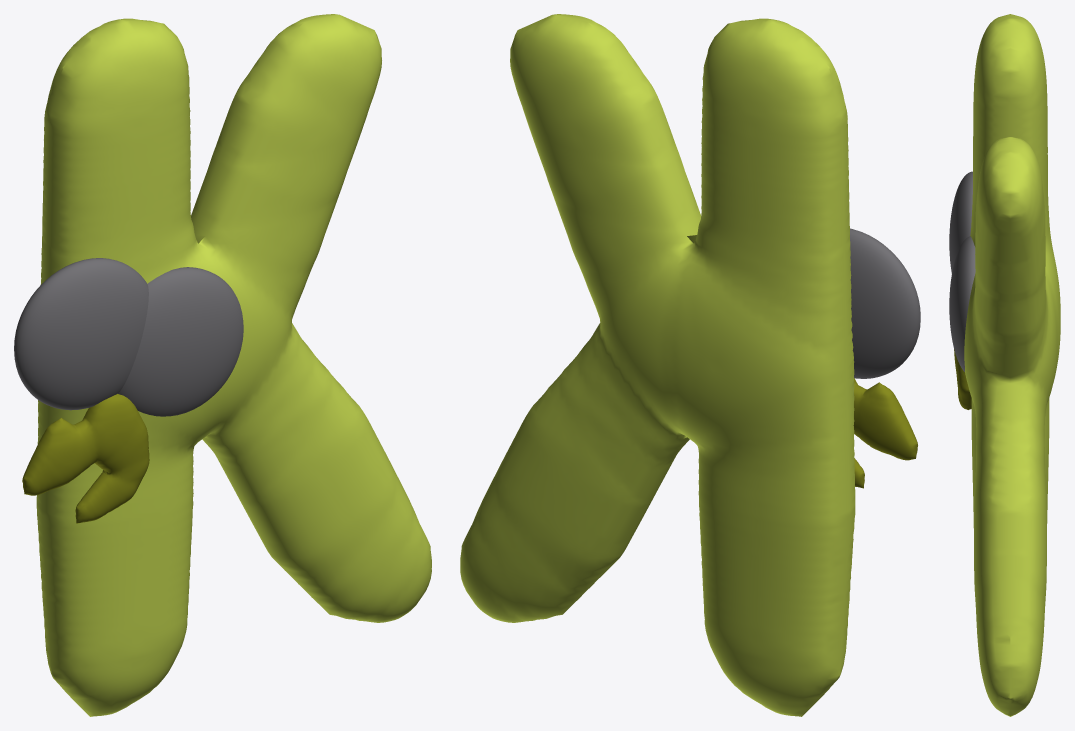
The picture shows the model from 3 angles, left to right: view 1: azimuth 30°, elevation 25°; view 2: azimuth 150°, elevation 25°; view 3: azimuth 270°, elevation 25°; orthographic projection. The views are drawn at different scales.
Parts seen in each view (by area): view 1: root_Material_44_0, root_Material_59_0, root_Material_56_0, root_Material_60_0; view 2: root_Material_44_0, root_Material_59_0, root_Material_60_0; view 3: root_Material_44_0, root_Material_56_0, root_Material_59_0, root_Material_60_0.
Part boxes in pixels (x1,y1,x2,y2): root_Material_44_0: (36,14,431,716); root_Material_59_0: (14,258,148,410); root_Material_56_0: (118,267,243,416); root_Material_60_0: (22,394,149,523); root_Material_44_0: (460,14,855,716); root_Material_59_0: (850,228,920,378); root_Material_60_0: (853,378,917,488); root_Material_44_0: (964,14,1060,716); root_Material_56_0: (949,236,975,371); root_Material_59_0: (949,171,972,273); root_Material_60_0: (954,349,971,409).
Bounding box in the file's own units: 0.00231 × 0.0035 × 0.000587.
